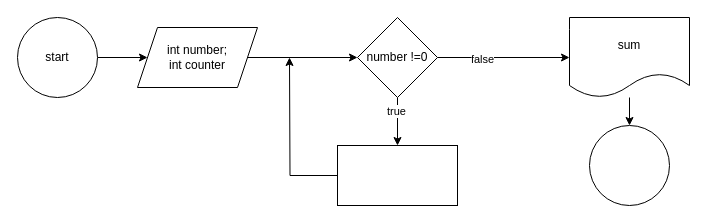
This 707x223 diagram has some shape labels left out. The centre of each missing label's shape, as x and y in pixels:
"end" goes at (629,165).
"num /= 10; counter++;" goes at (397,175).
